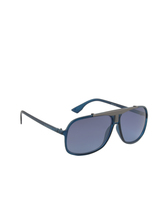glasses: (13, 91, 152, 156)
